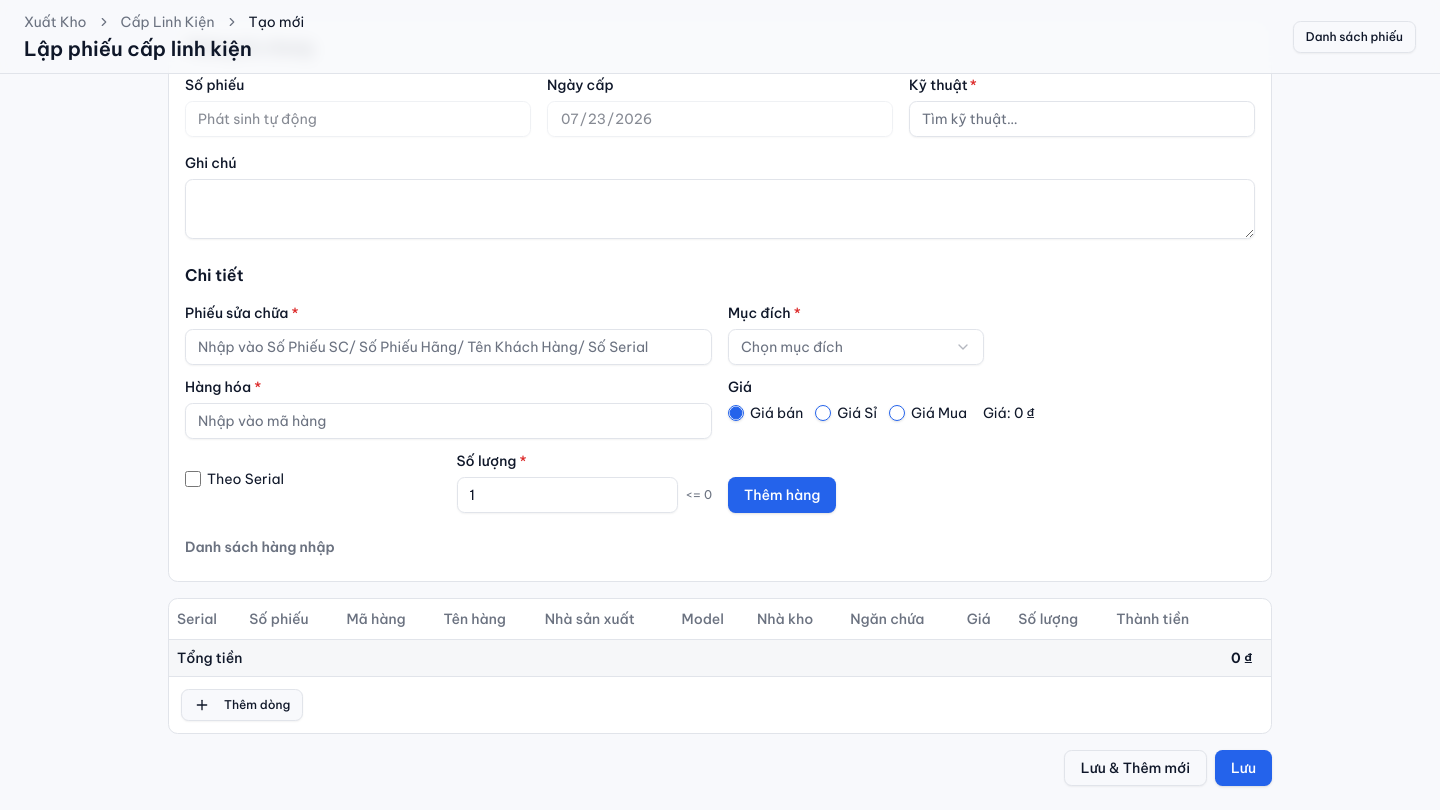
Test case: CapLinhKienCreatePage › validates: no kỹ thuật → "Vui lòng chọn kỹ thuật!"
(page scrolled)
Click the button "Lưu".
click(1244, 768)  # box top-left (1215, 750), bottom-right (1272, 786)
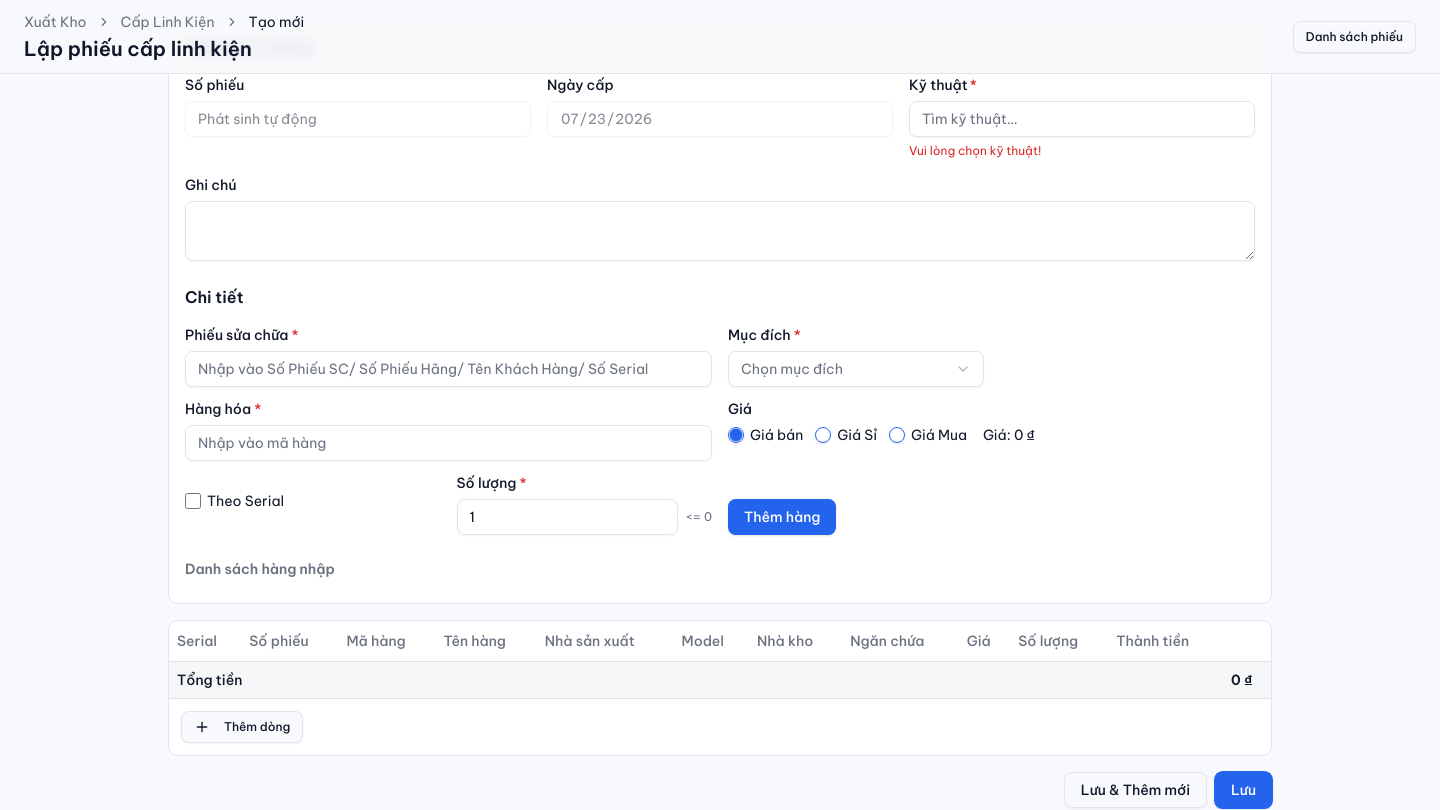
Expected: the text "Vui lòng chọn kỹ thuật!" is shown, top-left (909, 143), bottom-right (1041, 158)
